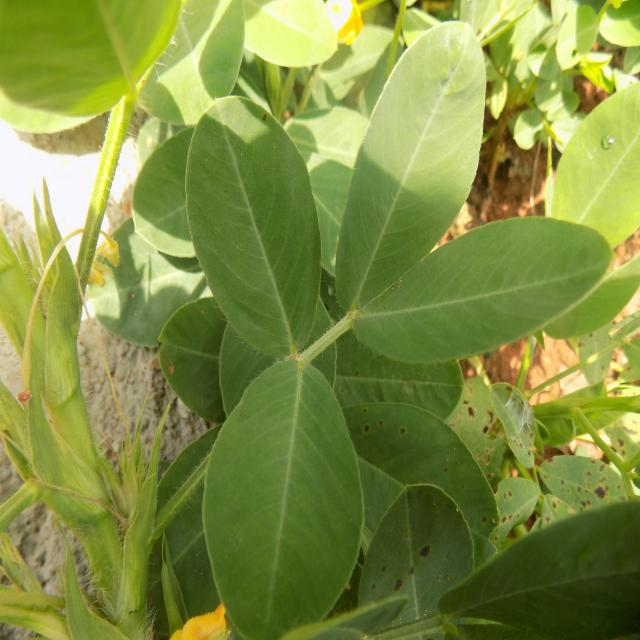Ground nut_healthy: (206, 360, 368, 640), (336, 14, 484, 303), (345, 224, 609, 365), (190, 93, 321, 360), (130, 115, 308, 255)
